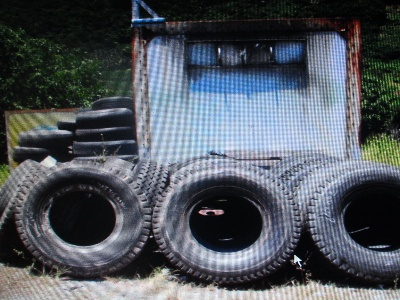tire: (154, 160, 303, 290), (16, 161, 151, 277), (307, 161, 400, 282), (71, 138, 138, 156), (16, 128, 74, 148), (74, 107, 133, 126), (75, 125, 138, 141), (87, 96, 135, 111)
